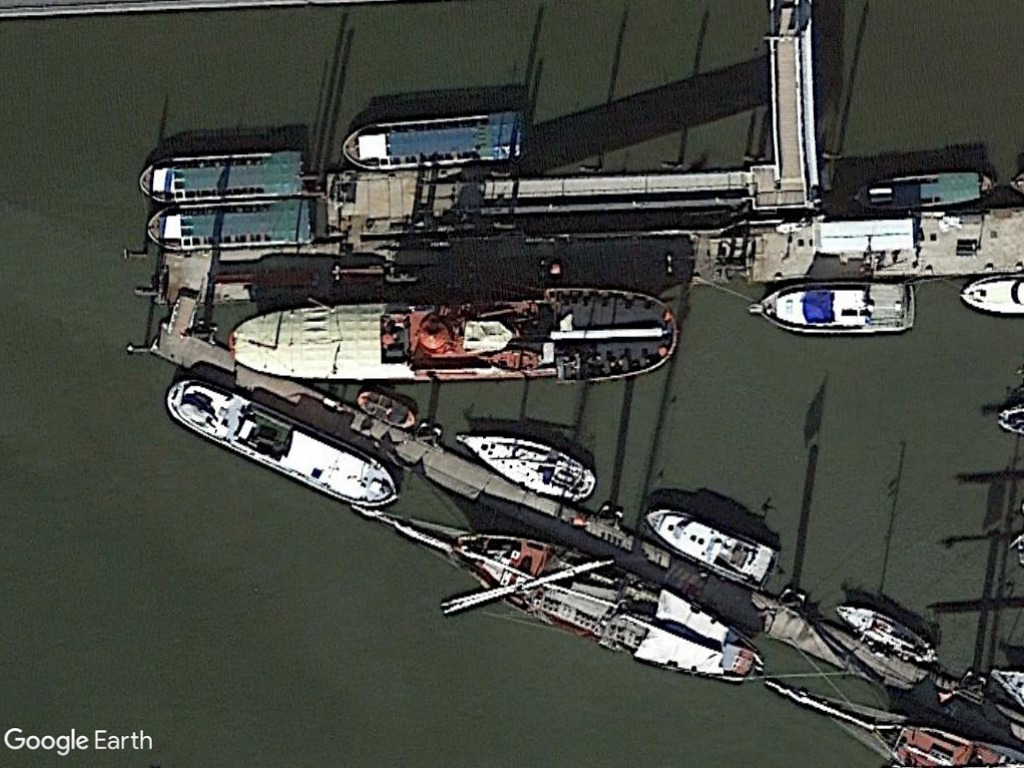boat: (441, 514, 766, 688), (225, 287, 681, 383), (159, 373, 402, 512), (338, 108, 532, 171), (449, 426, 599, 506), (642, 504, 779, 590), (136, 146, 307, 207), (743, 279, 919, 338), (141, 194, 314, 250), (829, 595, 946, 670)
